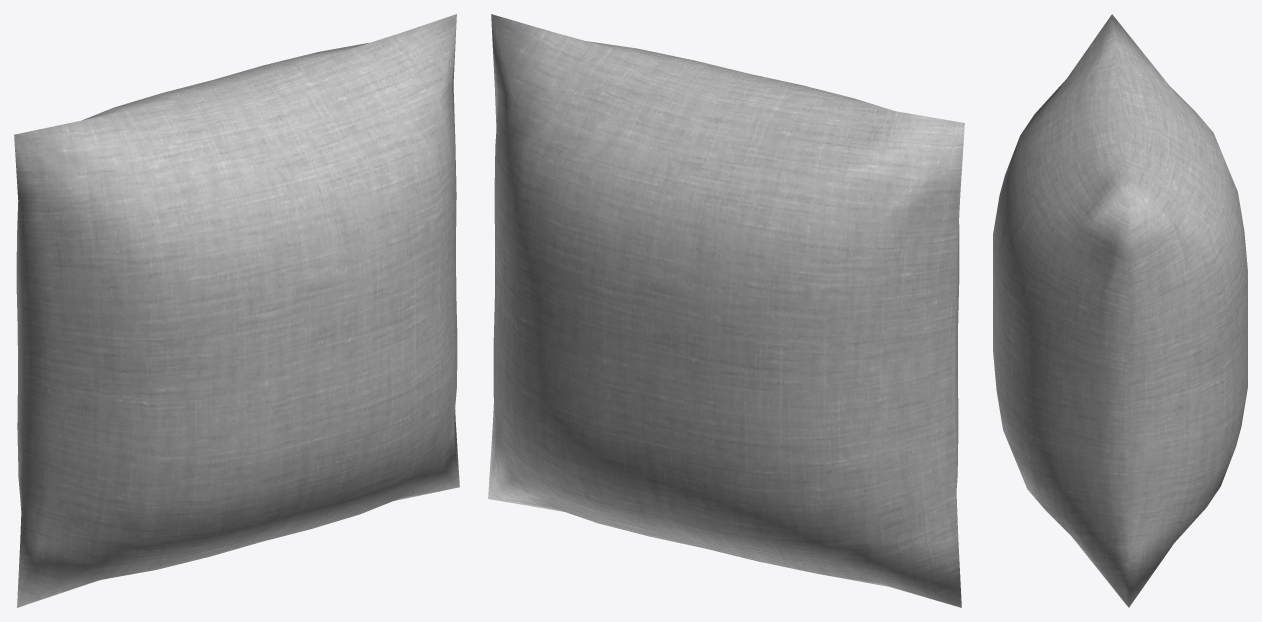
Rendered from Pillows_2.fbx.
3 renders of one model, left to right at view 1: azimuth 30°, elevation 25°; view 2: azimuth 150°, elevation 25°; view 3: azimuth 270°, elevation 25°, orthographic. The views are drawn at different scales.
Parts seen in each view (by area): view 1: Cube.004; view 2: Cube.004; view 3: Cube.004.
Boxes of the visible parts, x1,y1,x2,y2 form: Cube.004: (14,14,459,607); Cube.004: (488,14,964,607); Cube.004: (993,14,1247,607).
Size of the model in its own units: 66.95 by 67 by 37.86.
